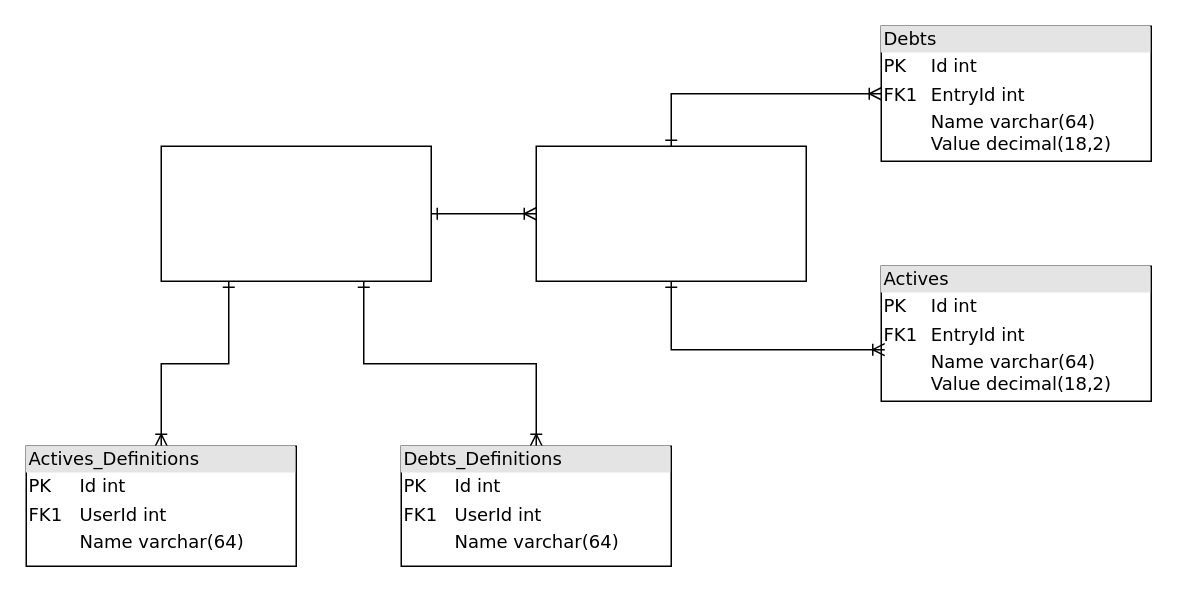
This 1178x593 diagram has some shape labels left out. The centre of each missing label's shape, as x and y in pixels:
"Entries PK Id int FK1 UserId int Date date Name varchar(64) NULL" belongs at [670,213].
"Users PK Id int Name varchar(64)" belongs at [295,213].
